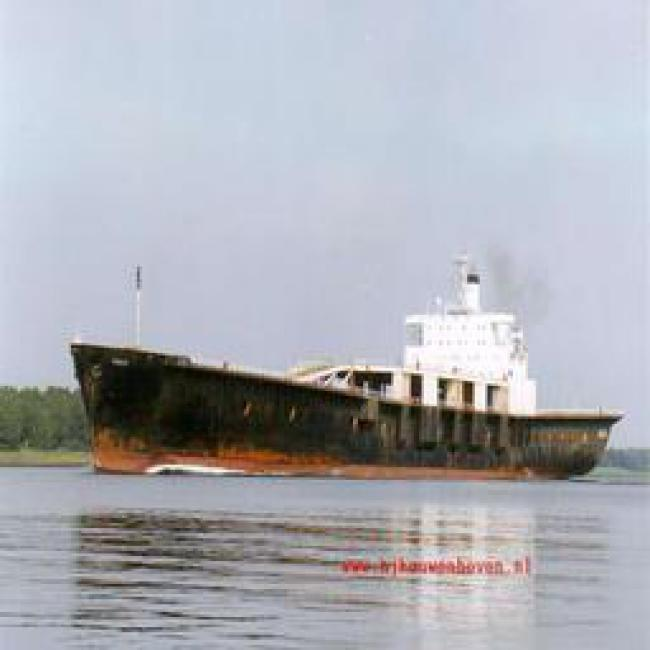Ship: (64, 317, 636, 503)
